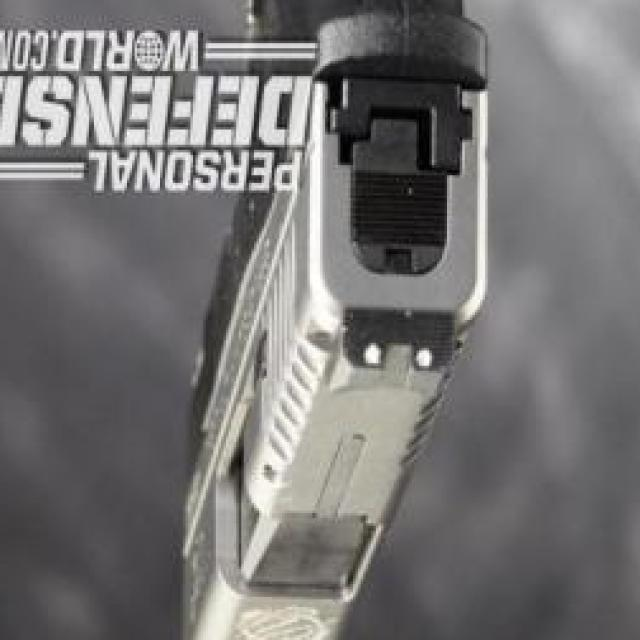pistol: (183, 0, 526, 640)
